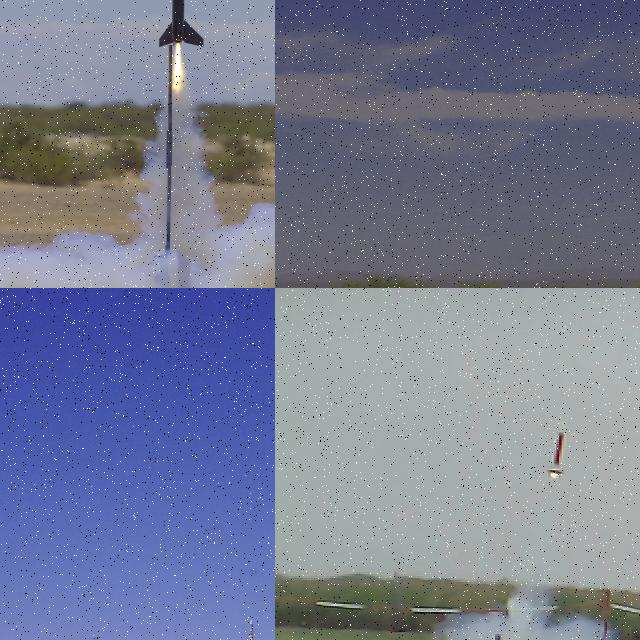Rocket: (158, 0, 206, 47), (546, 420, 566, 476), (247, 618, 258, 640)
